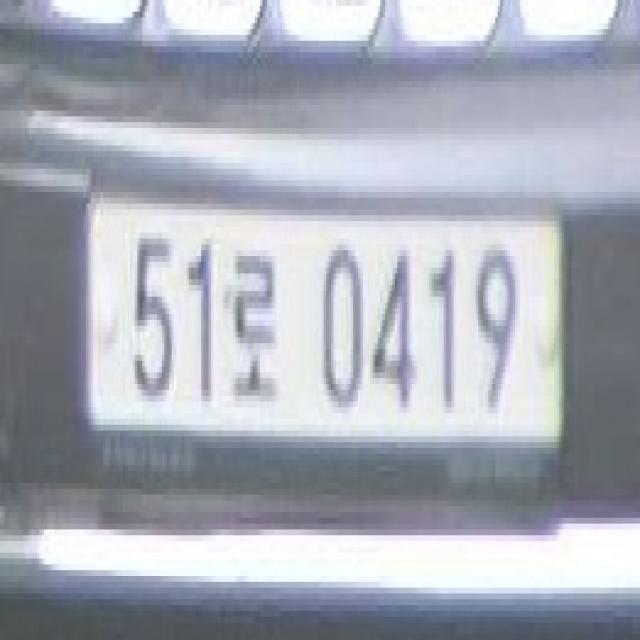0: (318, 229, 366, 417)
1: (182, 227, 224, 415), (426, 249, 466, 411)
4: (371, 233, 419, 430)
5: (130, 225, 178, 407)
9: (470, 243, 520, 430)
license_plate: (76, 145, 573, 528)
lo: (231, 246, 283, 414)
